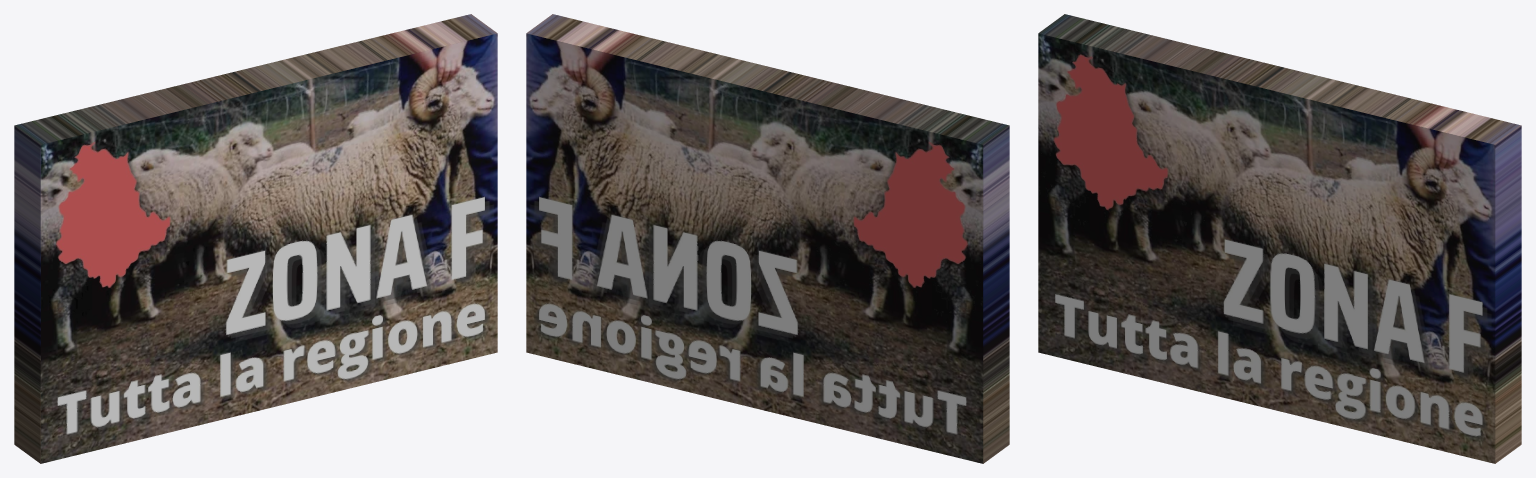
File: Zona F.glb
3 renders of one model, left to right at view 1: azimuth 30°, elevation 25°; view 2: azimuth 150°, elevation 25°; view 3: azimuth 330°, elevation 25°, orthographic.
Size of the model in its own units: 0.2245 by 0.1499 by 0.0225.
Materials: 1 (1 with a texture image).
